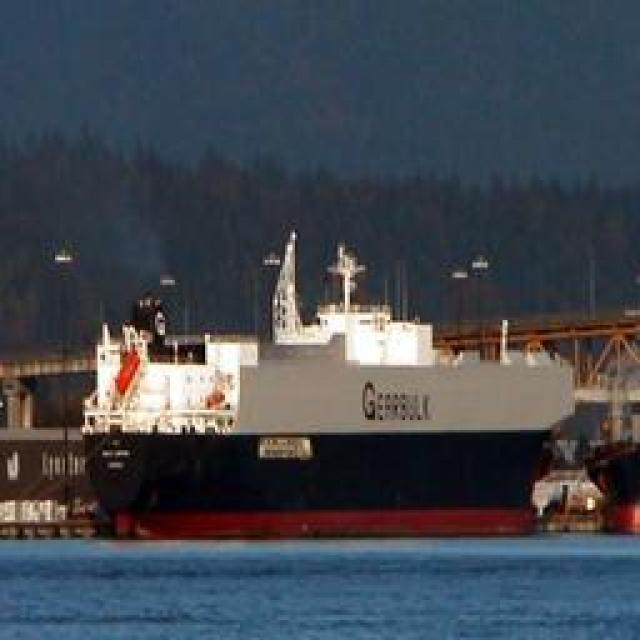CIV_Ship: (74, 252, 594, 528)
